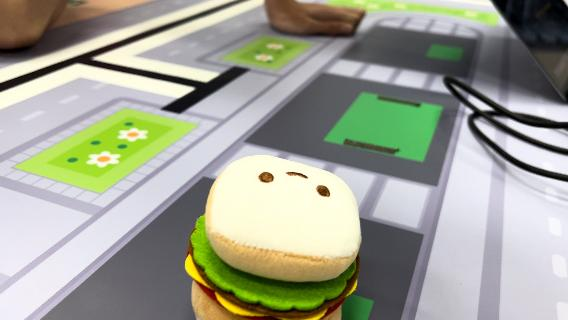sandwich: (184, 152, 365, 318)
